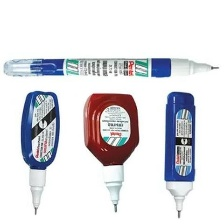correction_fluid: (82, 92, 142, 213), (17, 86, 62, 215), (0, 54, 223, 79), (162, 88, 198, 220)
